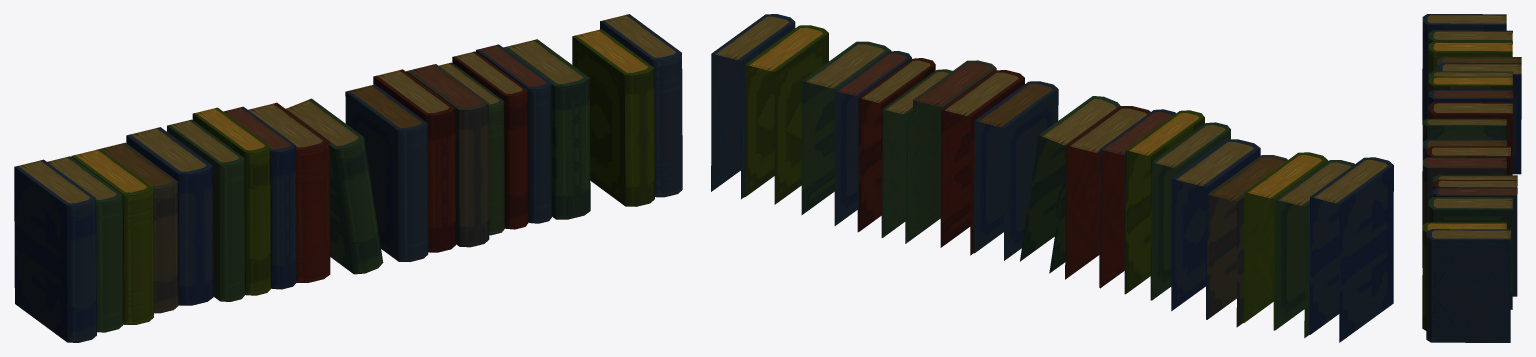
The model's file is BookGroup_Large_1.gltf.
3 views of the same model, side by side, from view 1: azimuth 30°, elevation 25°; view 2: azimuth 150°, elevation 25°; view 3: azimuth 270°, elevation 25° (orthographic). The views are drawn at different scales.
Visible parts, largest first — view 1: BookGroup_Large_1; view 2: BookGroup_Large_1; view 3: BookGroup_Large_1.
Part boxes in pixels (x1,y1,x2,y2): BookGroup_Large_1: [14, 14, 682, 342]; BookGroup_Large_1: [711, 14, 1393, 342]; BookGroup_Large_1: [1422, 14, 1521, 342].
Size of the model in its own units: 1.34 by 0.2983 by 0.2475.
Materials: 1 (1 with a texture image).
